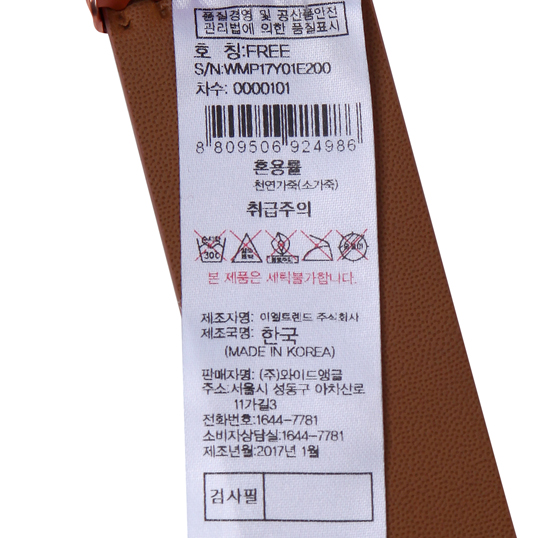do_not_bleach: (230, 232, 265, 265)
do_not_iron: (302, 232, 335, 265)
do_not_wash: (193, 230, 230, 267)
